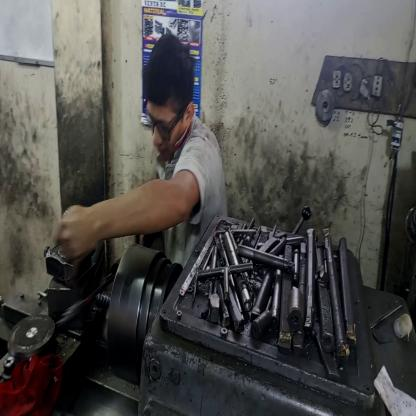lentes: (142, 97, 189, 144)
